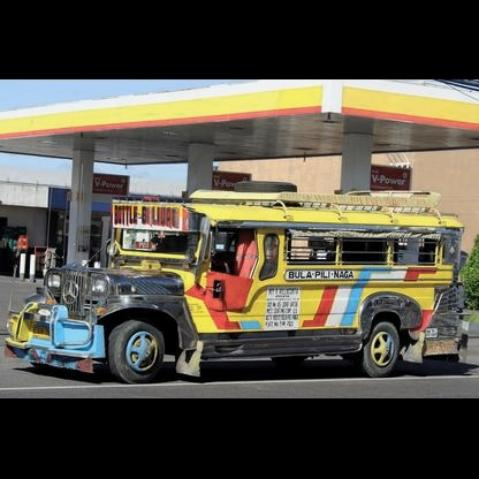jeepney: (5, 191, 478, 392)
